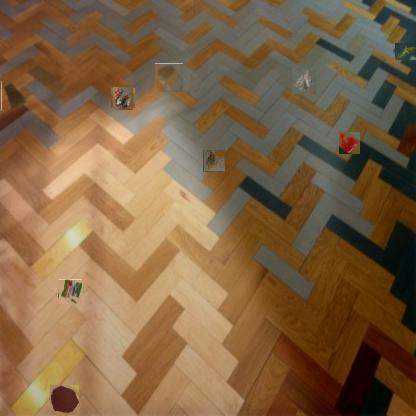dirty: (155, 64, 184, 92), (1, 81, 28, 111), (292, 68, 316, 94), (58, 280, 83, 304), (204, 150, 226, 172), (112, 88, 134, 110), (396, 41, 416, 62)
liquid: (50, 385, 80, 415), (338, 132, 360, 154)
